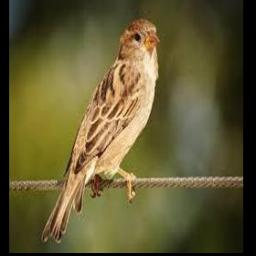Sparrow: (41, 18, 159, 243)
